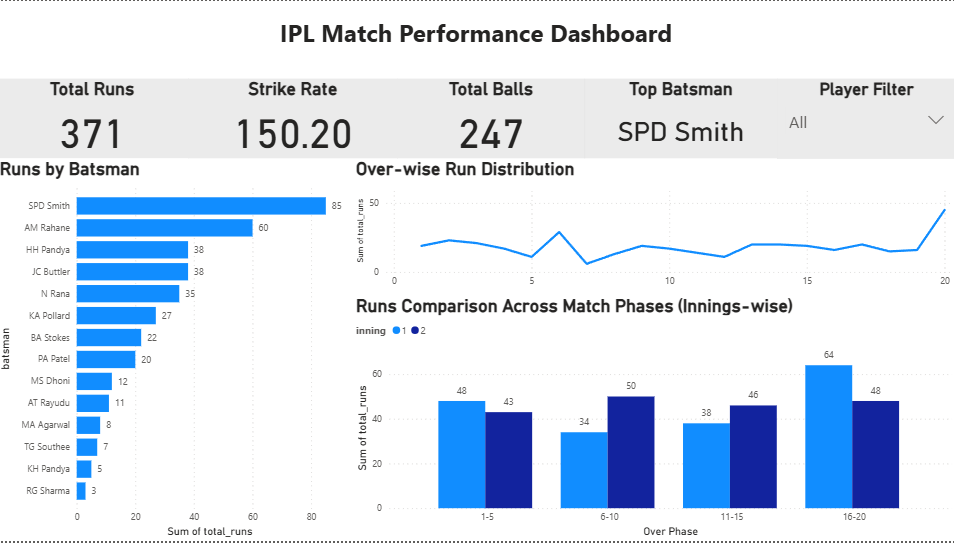

The page's visual inventory and layout, read from the dashboard file:
{"tool":"powerbi","page":{"name":"Page 1","canvas":[1280,720],"ordinal":0},"visuals":[{"type":"card","title":"Total Runs","fields":{"Values":["Sum(ipl_live.total_runs)"]},"box":[0,103.3,256.7,106.7],"z":0},{"type":"lineChart","title":"Over-wise Run Distribution","fields":{"Category":["ipl_live.over_num"],"Y":["Sum(ipl_live.total_runs)"]},"box":[475,210,805,181.7],"z":1000},{"type":"clusteredBarChart","title":"Runs by Batsman","fields":{"Y":["Sum(ipl_live.total_runs)"],"Category":["ipl_live.batsman"]},"box":[0,210,475,510],"z":2000},{"type":"card","title":"Strike Rate","fields":{"Values":["ipl_live.Strike Rate"]},"box":[256.7,103.3,278.3,106.7],"z":3000},{"type":"card","title":"Total Balls","fields":{"Values":["ipl_live.Total Balls"]},"box":[535,103.3,250,106.7],"z":4000},{"type":"card","title":"Top Batsman","fields":{"Values":["ipl_live.Top Player"]},"box":[785,103.3,256.7,106.7],"z":5000},{"type":"slicer","title":"Player Filter","fields":{"Values":["ipl_live.batsman"]},"box":[1042.1,102.9,238.2,106.9],"z":6000},{"type":"clusteredColumnChart","title":"Runs Comparison Across Match Phases (Innings-wise)","fields":{"Category":["ipl_live.Over Phase"],"Y":["Sum(ipl_live.total_runs)"],"Series":["ipl_live.inning"]},"box":[475,391.7,805,328.3],"z":7000},{"type":"textbox","box":[0,15,1280,88.3],"z":8000}]}

Visuals, with their boxes in screenshot pixels (x1, y1, x2, y2), scaled from the page's 1280x720 canvas onto the 954x545 screenshot:
"Total Runs" card: 0 78 191 159
"Over-wise Run Distribution" lineChart: 354 159 953 296
"Runs by Batsman" clusteredBarChart: 0 159 354 544
"Strike Rate" card: 191 78 399 159
"Total Balls" card: 399 78 585 159
"Top Batsman" card: 585 78 776 159
"Player Filter" slicer: 777 78 953 159
"Runs Comparison Across Match Phases (Innings-wise)" clusteredColumnChart: 354 296 953 544
textbox: 0 11 953 78
